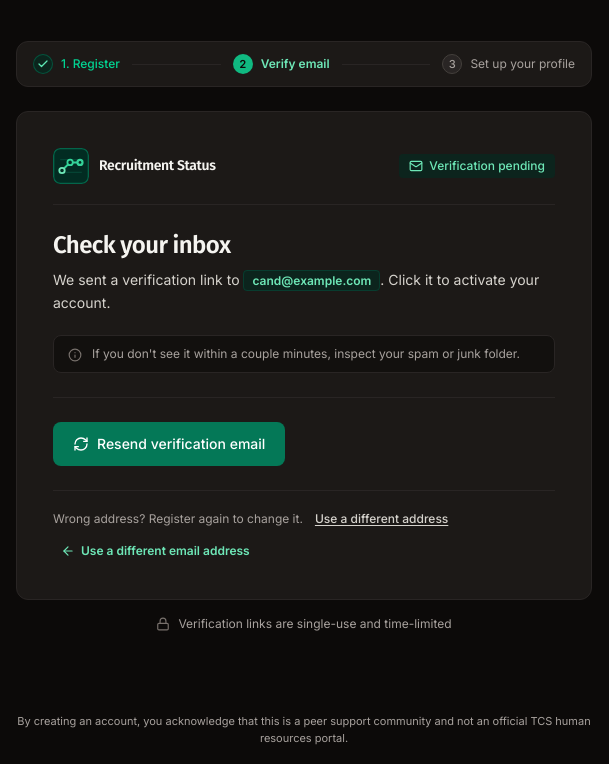
VerifyEmailPendingPage › shows the composition's rate-limit banner and the 30s cooldown on RATE_LIMITED
What coordinates should you click on to do the following:
click the button "Resend verification email"
I would click on:
 (169, 444)
Its box is [53,422,285,466].
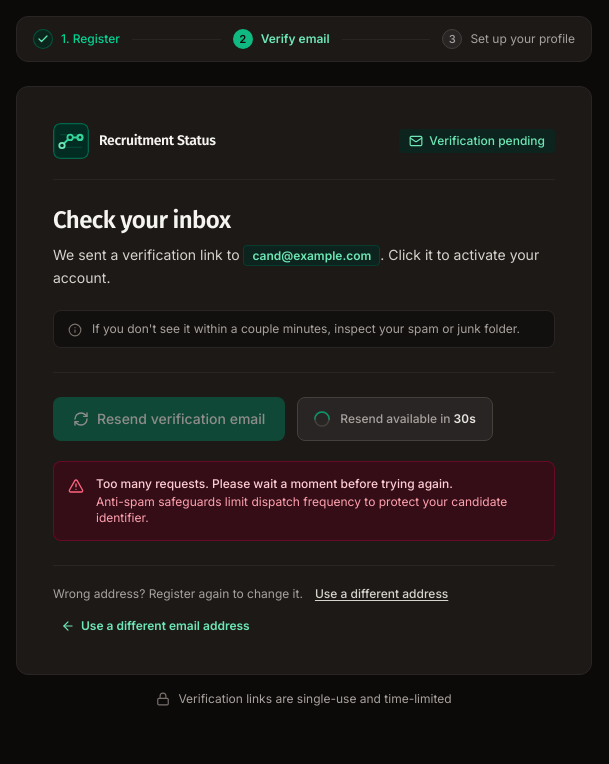
expect the message shows "Too many requests. Please wait a moment before trying again.": met, box [96,476,453,490]
expect the button "Resend available in 30s" is disabled: met, box [297,396,493,440]
